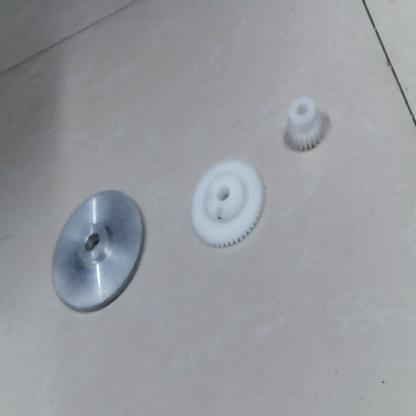FOD: (48, 187, 148, 315), (186, 158, 268, 250), (278, 96, 328, 154)
